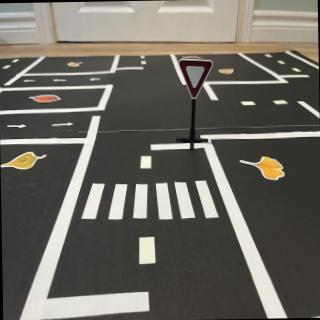road_crosswalk: (77, 176, 224, 224)
road_oneway: (50, 119, 77, 131), (4, 123, 29, 133), (23, 77, 38, 86), (50, 77, 69, 83), (89, 77, 103, 83)
sign_yield: (179, 59, 214, 100)
